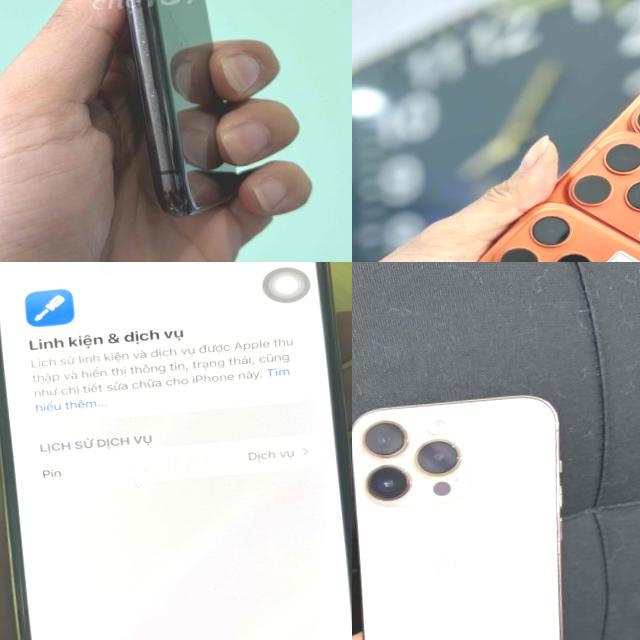gen_14: (0, 262, 352, 640), (352, 389, 580, 640)
gen_x_xs: (120, 0, 239, 215)
scratch: (108, 0, 168, 110)
